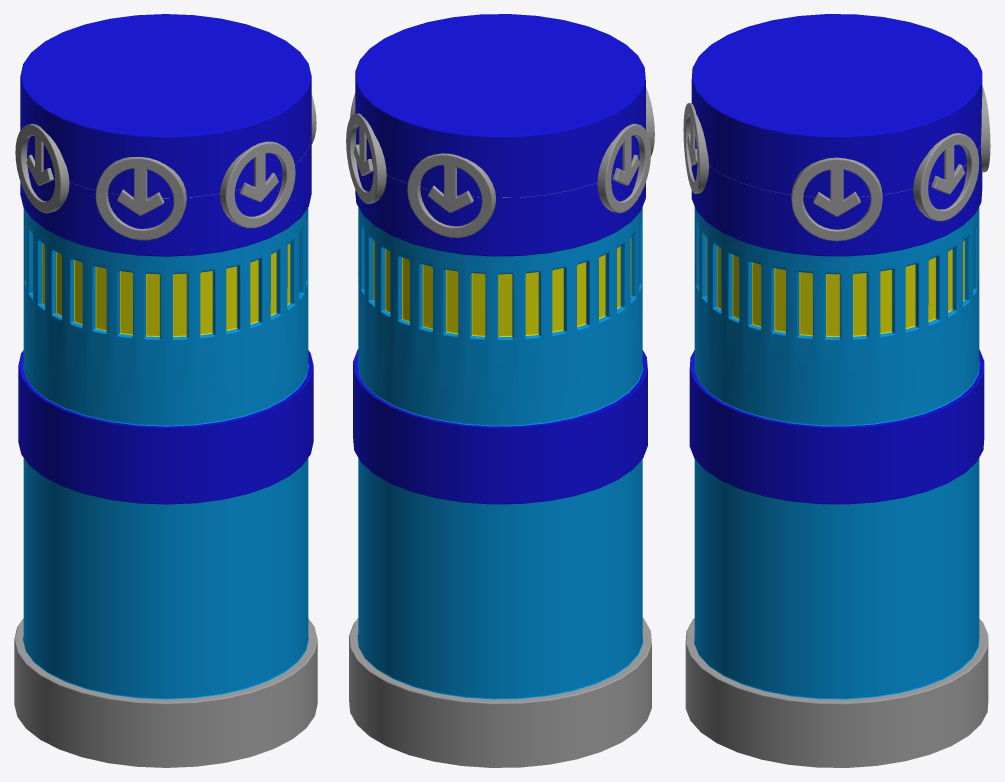
File: SM_Building_Cylinder_01.fbx
3 views of the same model, side by side, from view 1: azimuth 30°, elevation 25°; view 2: azimuth 150°, elevation 25°; view 3: azimuth 270°, elevation 25° (orthographic).
Parts seen in each view (by area): view 1: Cylinder.012; view 2: Cylinder.012; view 3: Cylinder.012.
Part boxes in pixels (bbox=[...]): Cylinder.012: bbox=[14, 14, 317, 767]; Cylinder.012: bbox=[346, 14, 654, 767]; Cylinder.012: bbox=[683, 14, 990, 767].
Size of the model in its own units: 2651 by 6158 by 2687.
